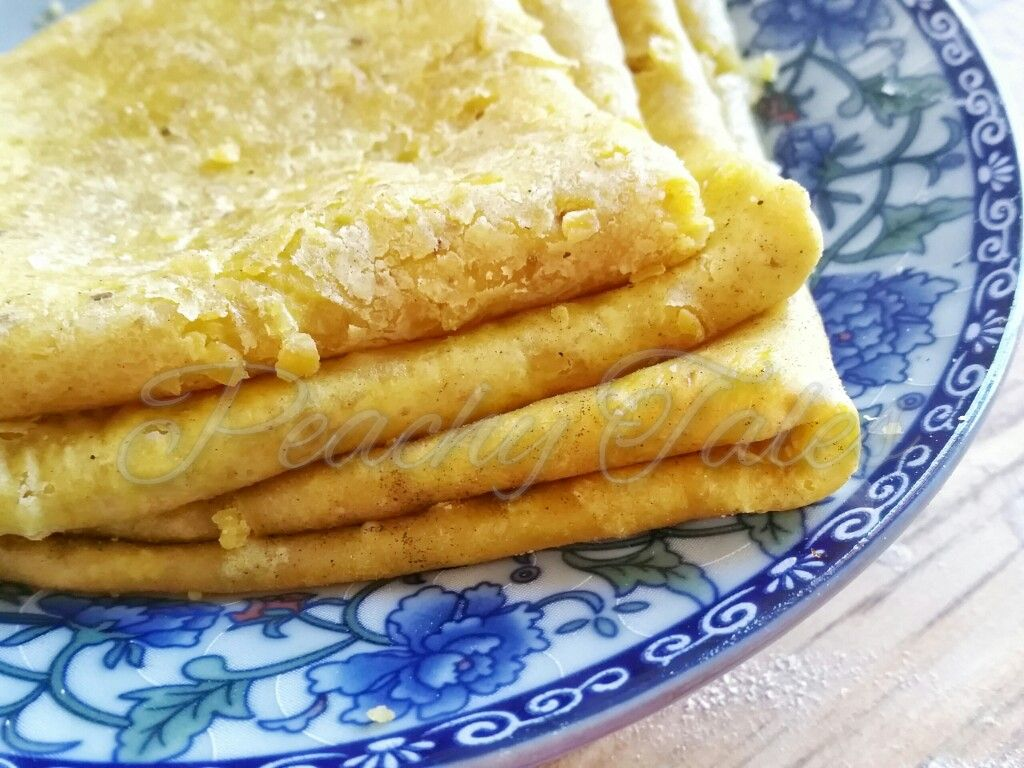Farata: (4, 6, 877, 573)
